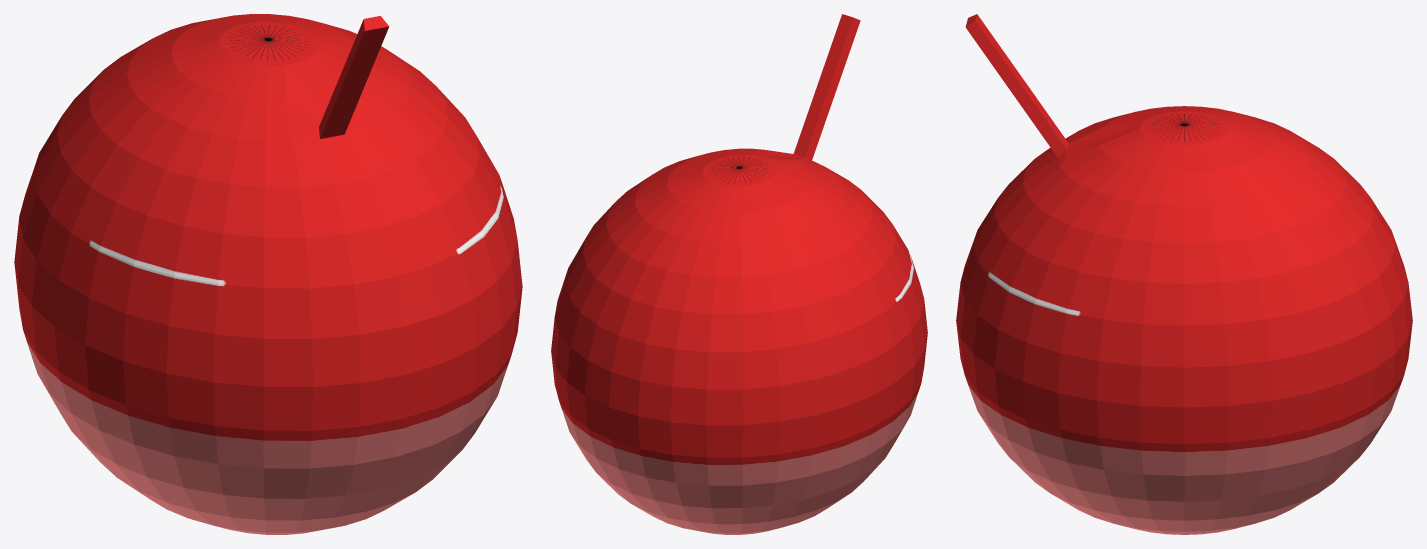
File: redEnemy.obj
3 renders of one model, left to right at view 1: azimuth 30°, elevation 25°; view 2: azimuth 150°, elevation 25°; view 3: azimuth 270°, elevation 25°, orthographic. The views are drawn at different scales.
Parts seen in each view (by area): view 1: 球; view 2: 球; view 3: 球.
Part boxes in pixels (x1,y1,x2,y2): 球: (14, 14, 522, 534); 球: (551, 14, 927, 534); 球: (956, 14, 1412, 534).
Bounding box in the file's own units: 1.03 × 1.36 × 1.14.
